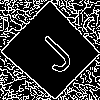J: (26, 26, 77, 76)
